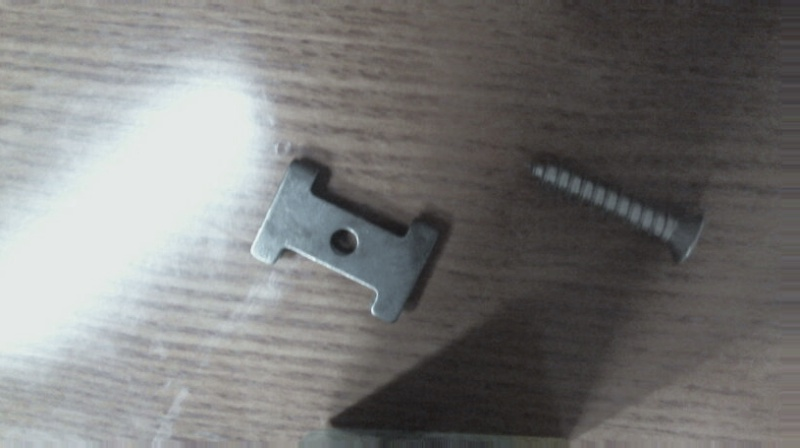O002: (243, 155, 444, 325)
S001: (523, 157, 708, 269)
